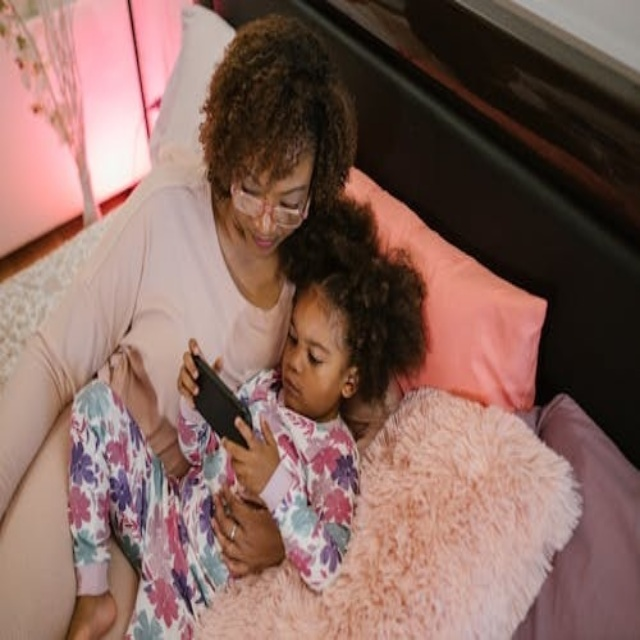Gafas: (231, 173, 312, 234)
Sin_gafas: (285, 315, 338, 369)
Sin_guantes: (212, 483, 283, 577), (221, 415, 276, 480), (174, 340, 204, 406)
Sin_mascara: (252, 232, 277, 248), (283, 380, 302, 400)
